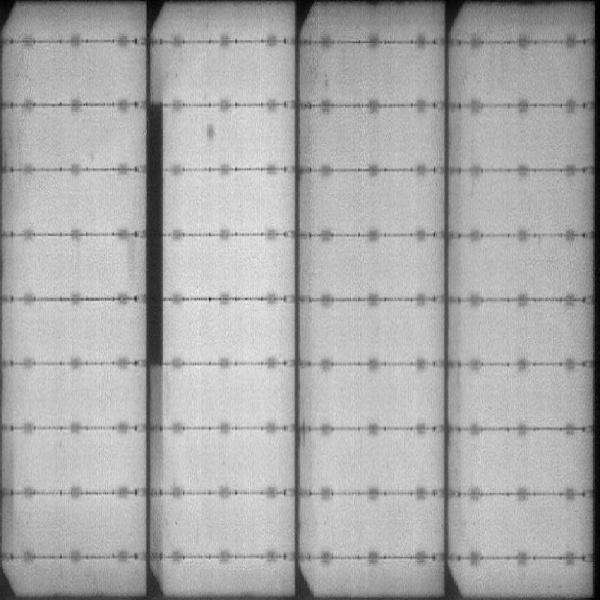black_border: (143, 101, 168, 385)
